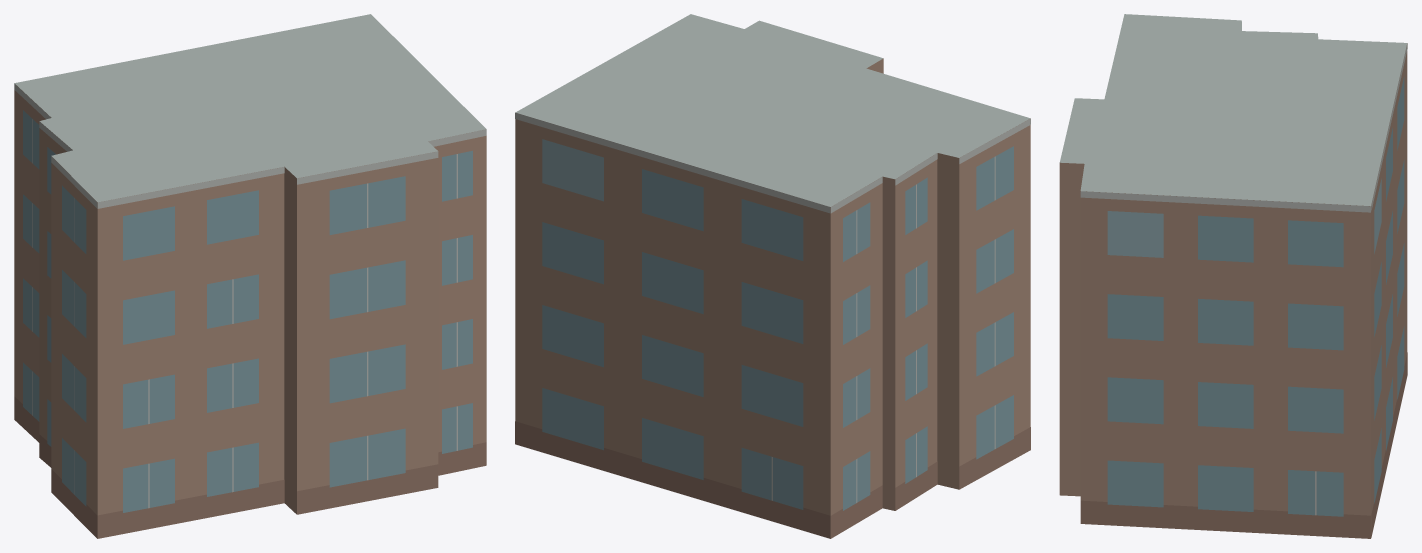
The model's file is survey-upis-32788767.glb.
3 views of the same model, side by side, from view 1: azimuth 30°, elevation 25°; view 2: azimuth 150°, elevation 25°; view 3: azimuth 270°, elevation 25° (orthographic).
Parts seen in each view (by area): view 1: survey-upis-32788767.tmp; view 2: survey-upis-32788767.tmp; view 3: survey-upis-32788767.tmp.
Part boxes in pixels (<box>): survey-upis-32788767.tmp: <box>14,14,486,538</box>; survey-upis-32788767.tmp: <box>515,14,1030,538</box>; survey-upis-32788767.tmp: <box>1059,14,1407,538</box>.
Bounding box in the file's own units: 15.55 × 12.55 × 11.9.
